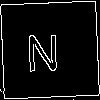N: (24, 24, 60, 72)
